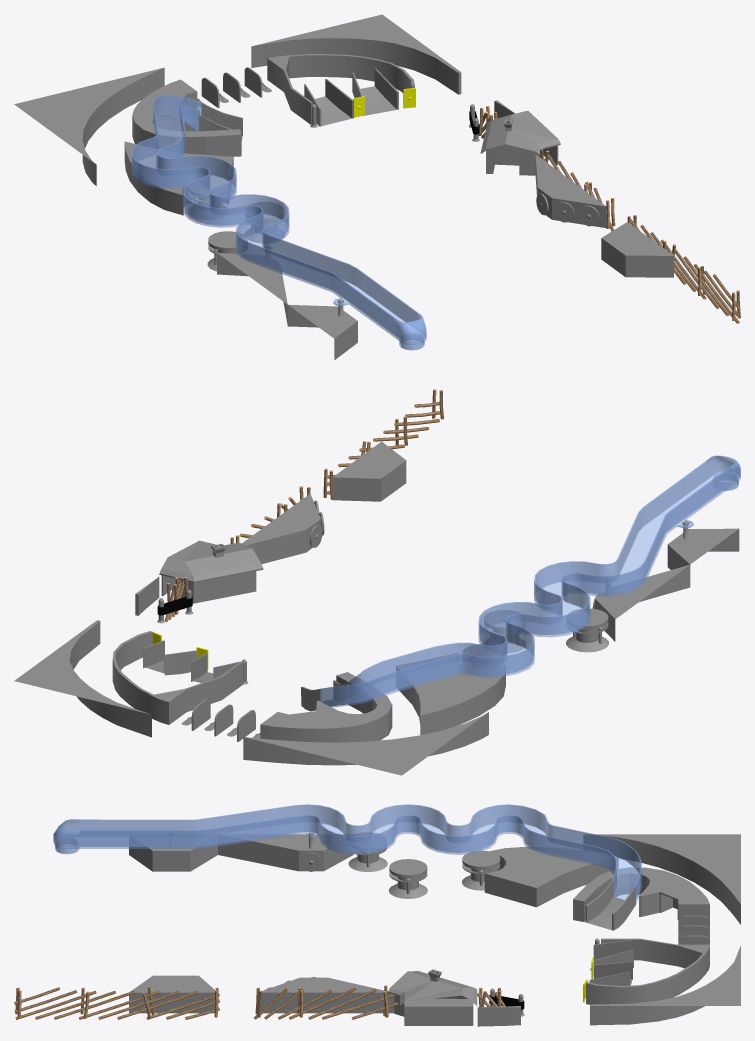
File: Playfield Structures.FBX
3 views of the same model, one above another, from view 1: azimuth 30°, elevation 25°; view 2: azimuth 150°, elevation 25°; view 3: azimuth 270°, elevation 25° (orthographic). The views are drawn at different scales.
Visible parts, largest first — view 1: Tuonela River Ramp, Right Back Orbit, Left Back Orbit, Structure002, Structure001, Walls, Structure003, Structure006, Structure007, Structure005, Structure004, Middle Ramp Entrance (+4 smaller); view 2: Tuonela River Ramp, Left Back Orbit, Structure002, Walls, Structure003, Right Back Orbit, Structure001, Structure006, Structure007, Structure004, Structure005, Left Ramp Entrance (+4 smaller); view 3: Tuonela River Ramp, Left Back Orbit, Structure003, Structure001, Structure002, Walls, Right Back Orbit, Structure007, Structure004, Structure006, Structure005, Tuonela River Ramp Entrance (+6 smaller).
Boxes of the visible parts, x1,y1,x2,y2 form: Tuonela River Ramp: (131,95,426,350); Right Back Orbit: (251,14,461,94); Left Back Orbit: (14,67,164,185); Structure002: (132,79,241,156); Structure001: (267,54,414,124); Walls: (480,110,560,175); Structure003: (124,141,233,215); Structure006: (601,222,673,277); Structure007: (535,154,606,227); Structure005: (287,304,357,360); Structure004: (217,253,287,324); Middle Ramp Entrance: (304,78,353,126); Tuonela River Ramp: (320,455,740,707); Left Back Orbit: (243,712,488,775); Structure002: (260,672,392,742); Walls: (159,540,263,603); Structure003: (396,653,505,735); Right Back Orbit: (14,620,151,737); Structure001: (112,631,243,724); Structure006: (332,441,406,501); Structure007: (242,493,320,563); Structure004: (594,564,690,641); Structure005: (667,528,739,569); Left Ramp Entrance: (143,640,196,675); Tuonela River Ramp: (53,804,641,903); Left Back Orbit: (583,834,740,924); Structure003: (484,846,618,907); Structure001: (586,938,709,1004); Structure002: (573,867,709,921); Walls: (388,971,477,1025); Right Back Orbit: (590,945,740,1025); Structure007: (261,977,394,1013); Structure004: (218,834,353,871); Structure006: (129,975,215,1013); Structure005: (129,844,217,871); Tuonela River Ramp Entrance: (585,879,635,930).
Size of the model in its own units: 0.5144 by 0.0773 by 0.9208.
Materials: 5 (1 with a texture image).
